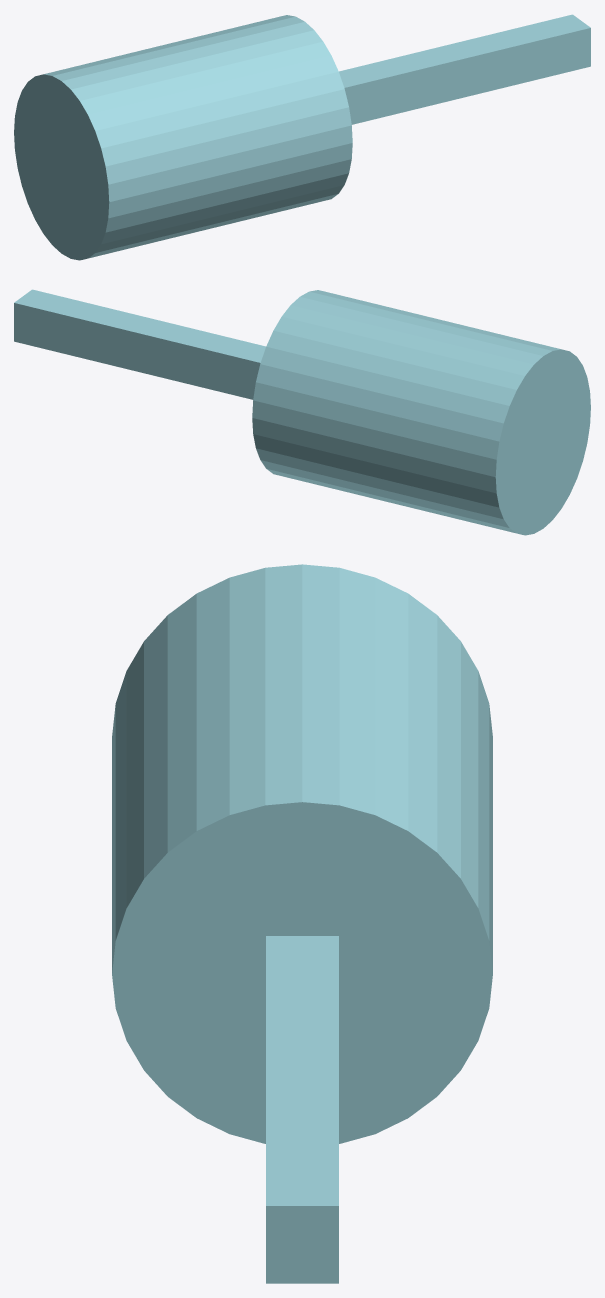
Rendered from cylinder_screwdriver_v3005.obj.
3 views of the same model, one above another, from view 1: azimuth 30°, elevation 25°; view 2: azimuth 150°, elevation 25°; view 3: azimuth 270°, elevation 25° (orthographic). The views are drawn at different scales.
Bounding box in the file's own units: 0.1887 × 0.0598 × 0.0598.
Materials: 1 (1 with a texture image).
